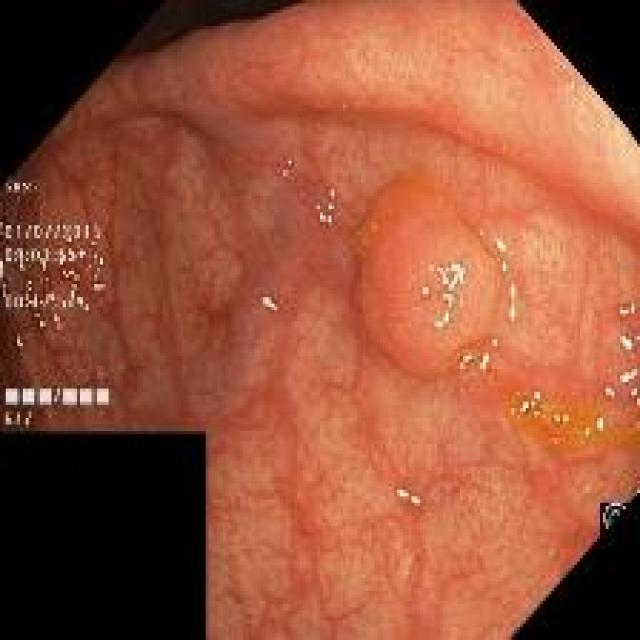Polyps: (360, 177, 499, 379)
